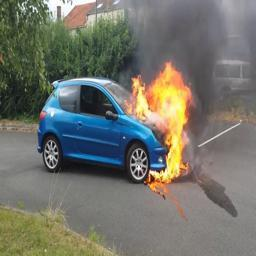fire: (124, 62, 197, 182)
